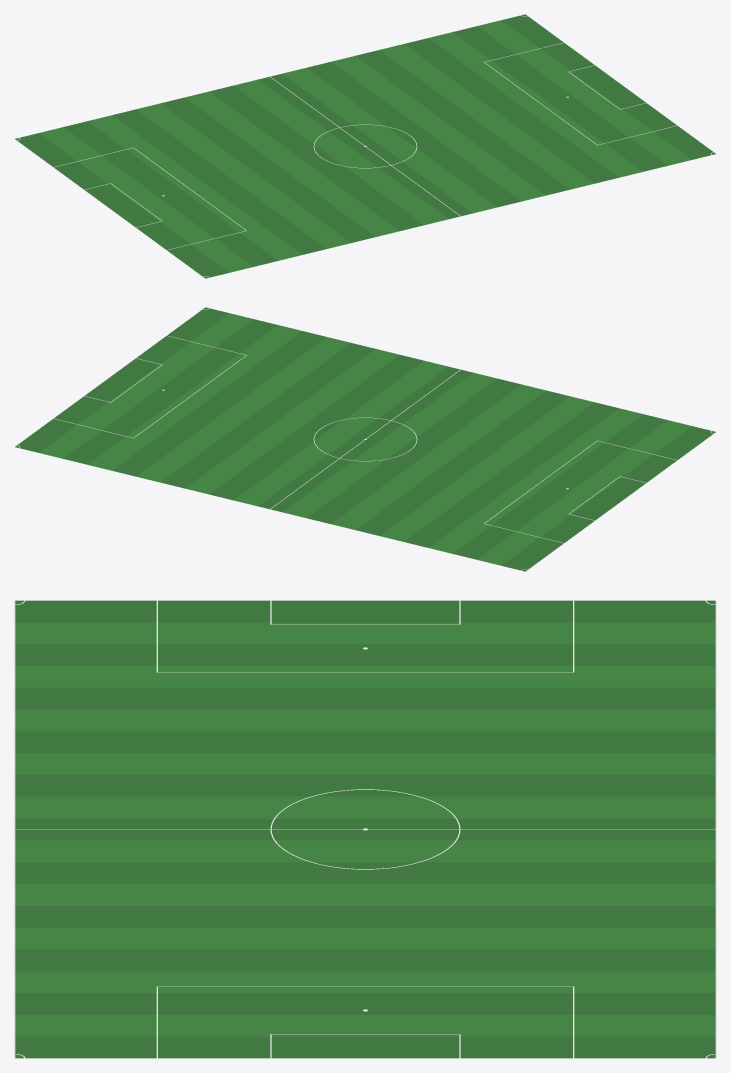
Rendered from platform.fbx.
The picture shows the model from 3 angles, top to bottom: view 1: azimuth 30°, elevation 25°; view 2: azimuth 150°, elevation 25°; view 3: azimuth 270°, elevation 25°; orthographic projection. The views are drawn at different scales.
Parts seen in each view (by area): view 1: FieldBase, Stripe_12, Stripe_18, Stripe_4, Stripe_8, Stripe_10, Stripe_14, Stripe_16, Stripe_2, Stripe_6, Stripe_20, Stripe_0 (+2 smaller); view 2: FieldBase, Stripe_12, Stripe_18, Stripe_4, Stripe_8, Stripe_10, Stripe_14, Stripe_16, Stripe_2, Stripe_6, Stripe_20, Stripe_0 (+2 smaller); view 3: FieldBase, Stripe_16, Stripe_4, Stripe_6, Stripe_10, Stripe_20, Stripe_0, Stripe_14, Stripe_12, Stripe_8, Stripe_18, Stripe_2 (+2 smaller).
Boxes of the visible parts, bbox=[...] form: FieldBase: bbox=[39, 20, 691, 272]; Stripe_12: bbox=[307, 62, 521, 207]; Stripe_18: bbox=[453, 26, 667, 171]; Stripe_4: bbox=[112, 109, 326, 254]; Stripe_8: bbox=[209, 85, 423, 230]; Stripe_10: bbox=[258, 74, 472, 218]; Stripe_14: bbox=[355, 50, 569, 195]; Stripe_16: bbox=[404, 38, 618, 183]; Stripe_2: bbox=[63, 121, 277, 266]; Stripe_6: bbox=[161, 97, 375, 242]; Stripe_20: bbox=[501, 14, 715, 159]; Stripe_0: bbox=[15, 133, 229, 278]; FieldBase: bbox=[39, 313, 691, 565]; Stripe_12: bbox=[209, 355, 423, 500]; Stripe_18: bbox=[63, 319, 277, 464]; Stripe_4: bbox=[404, 402, 618, 547]; Stripe_8: bbox=[307, 378, 521, 523]; Stripe_10: bbox=[258, 367, 472, 511]; Stripe_14: bbox=[161, 343, 375, 488]; Stripe_16: bbox=[112, 331, 326, 476]; Stripe_2: bbox=[453, 414, 667, 559]; Stripe_6: bbox=[355, 390, 569, 535]; Stripe_20: bbox=[15, 307, 229, 452]; Stripe_0: bbox=[501, 426, 715, 571]; FieldBase: bbox=[15, 622, 715, 1036]; Stripe_16: bbox=[15, 949, 715, 971]; Stripe_4: bbox=[15, 687, 715, 709]; Stripe_6: bbox=[15, 731, 715, 753]; Stripe_10: bbox=[15, 818, 715, 840]; Stripe_20: bbox=[15, 1036, 715, 1058]; Stripe_0: bbox=[15, 600, 715, 622]; Stripe_14: bbox=[15, 906, 715, 927]; Stripe_12: bbox=[15, 862, 715, 883]; Stripe_8: bbox=[15, 775, 715, 796]; Stripe_18: bbox=[15, 993, 715, 1014]; Stripe_2: bbox=[15, 644, 715, 665].
Bounding box in the file's own units: 10512 × 0.701 × 6812.
